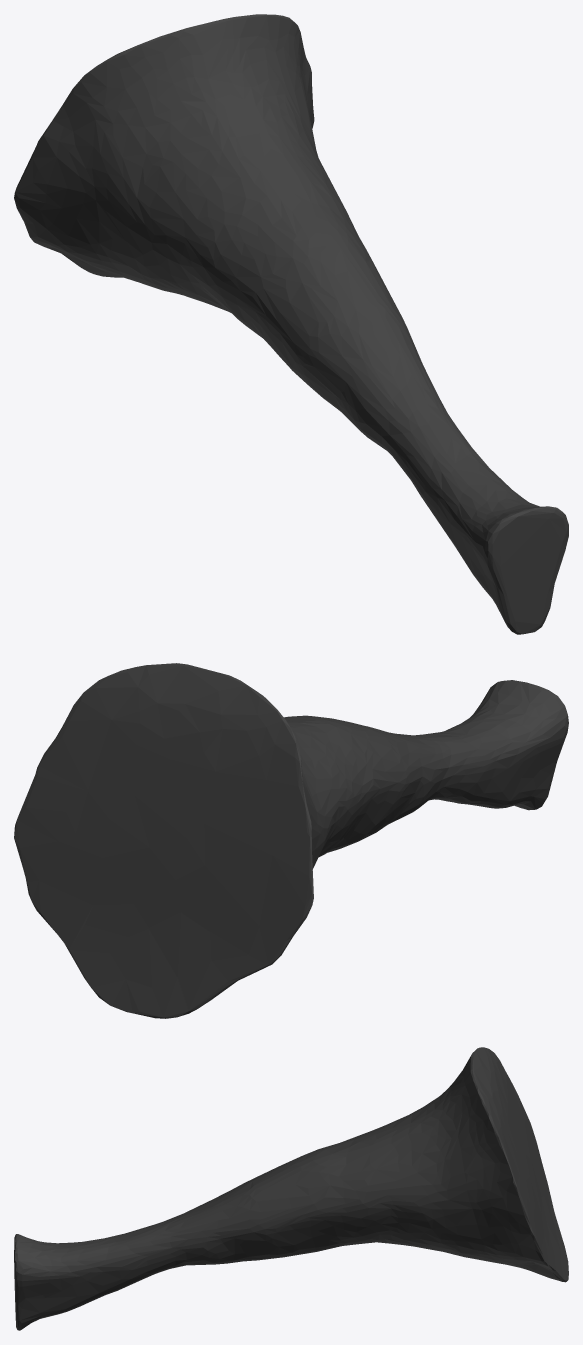
The model's file is Mesencephalic_aqueduct.glb.
The picture shows the model from 3 angles, top to bottom: view 1: azimuth 30°, elevation 25°; view 2: azimuth 150°, elevation 25°; view 3: azimuth 270°, elevation 25°; orthographic projection. The views are drawn at different scales.
Visible parts, largest first — view 1: Mesencephalic_aqueduct; view 2: Mesencephalic_aqueduct; view 3: Mesencephalic_aqueduct.
Part boxes in pixels (x1=…): Mesencephalic_aqueduct: x1=14, y1=14, x2=568, y2=634; Mesencephalic_aqueduct: x1=14, y1=663, x2=568, y2=1018; Mesencephalic_aqueduct: x1=14, y1=1047, x2=568, y2=1330.
Size of the model in its own units: 0.00955 by 0.0114 by 0.0217.
Materials: 1 (1 with a texture image).
